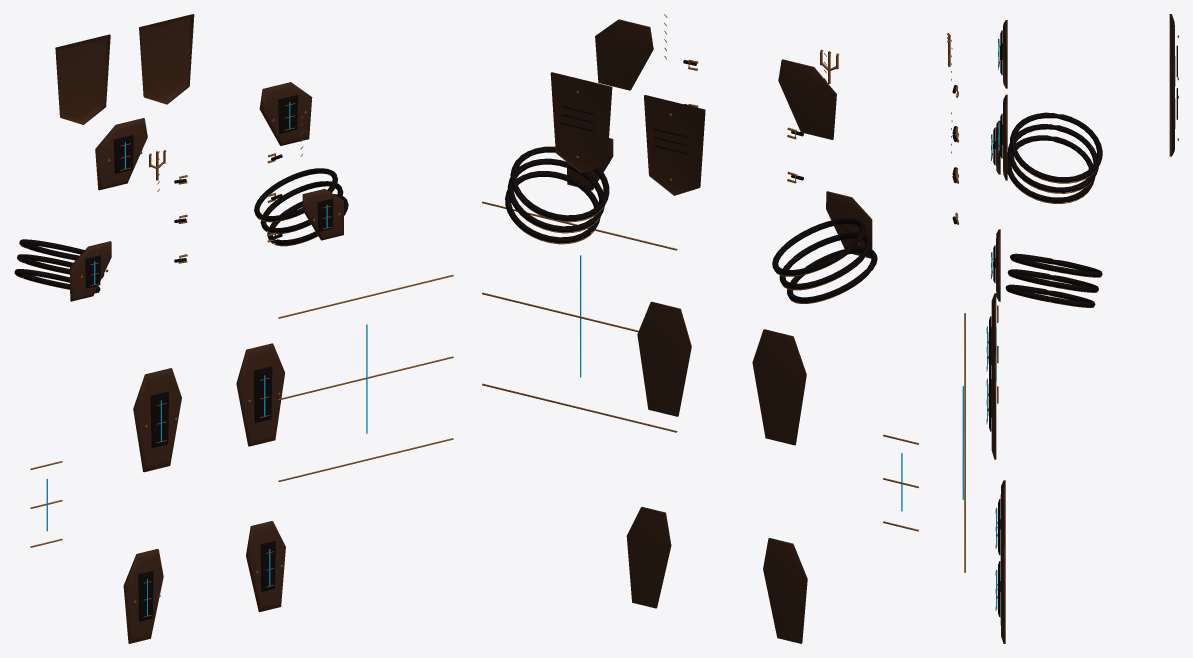
File: Nerok-new-parts.obj
3 renders of one model, left to right at view 1: azimuth 30°, elevation 25°; view 2: azimuth 150°, elevation 25°; view 3: azimuth 270°, elevation 25°, orthographic. The views are drawn at different scales.
Size of the model in its own units: 1.02 by 1.29 by 0.4856.
